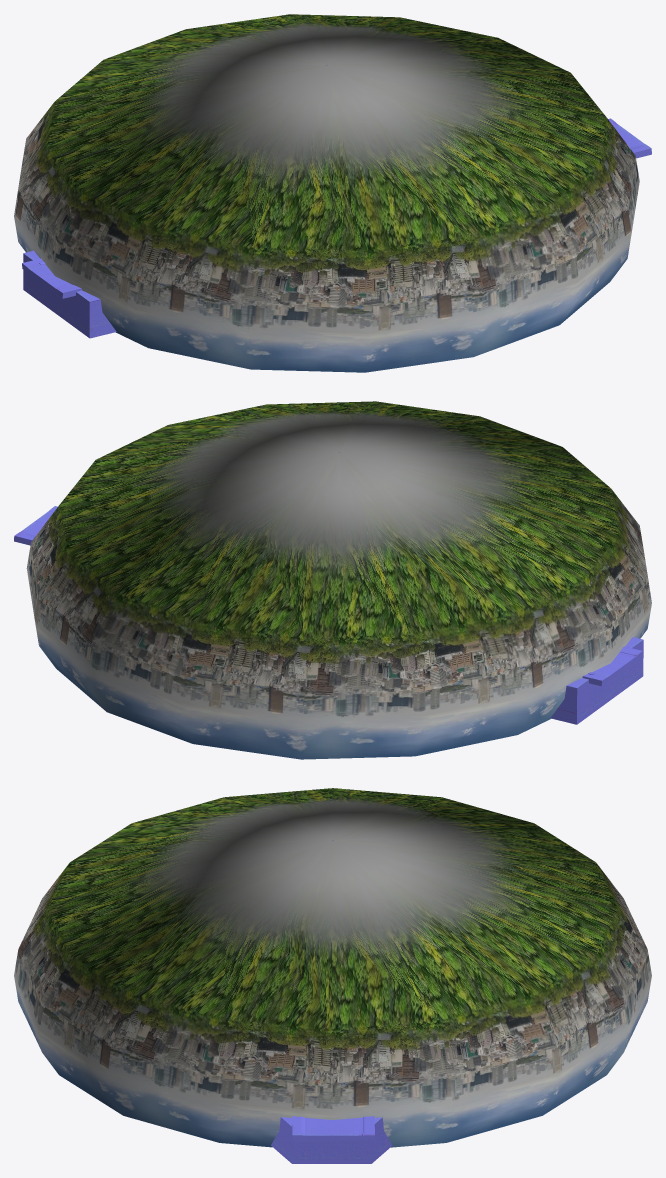
File: Bridge.glb
3 views of the same model, one above another, from view 1: azimuth 30°, elevation 25°; view 2: azimuth 150°, elevation 25°; view 3: azimuth 270°, elevation 25° (orthographic).
Visible parts, largest first — view 1: Bridge; view 2: Bridge; view 3: Bridge.
Part boxes in pixels (<box>): Bridge: <box>14,14,651,372</box>; Bridge: <box>14,401,651,759</box>; Bridge: <box>14,788,651,1163</box>.
Size of the model in its own units: 668 by 200 by 620.
4 materials, 4 textured.
